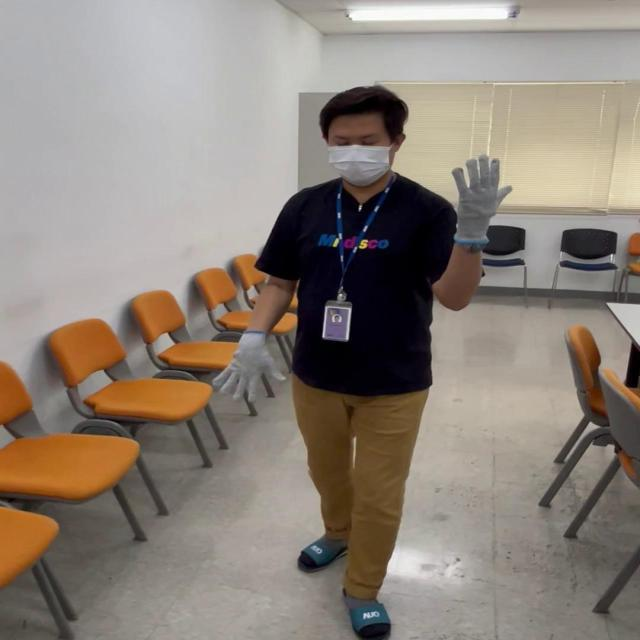gloved_hand: (446, 144, 511, 252), (212, 331, 284, 396)
